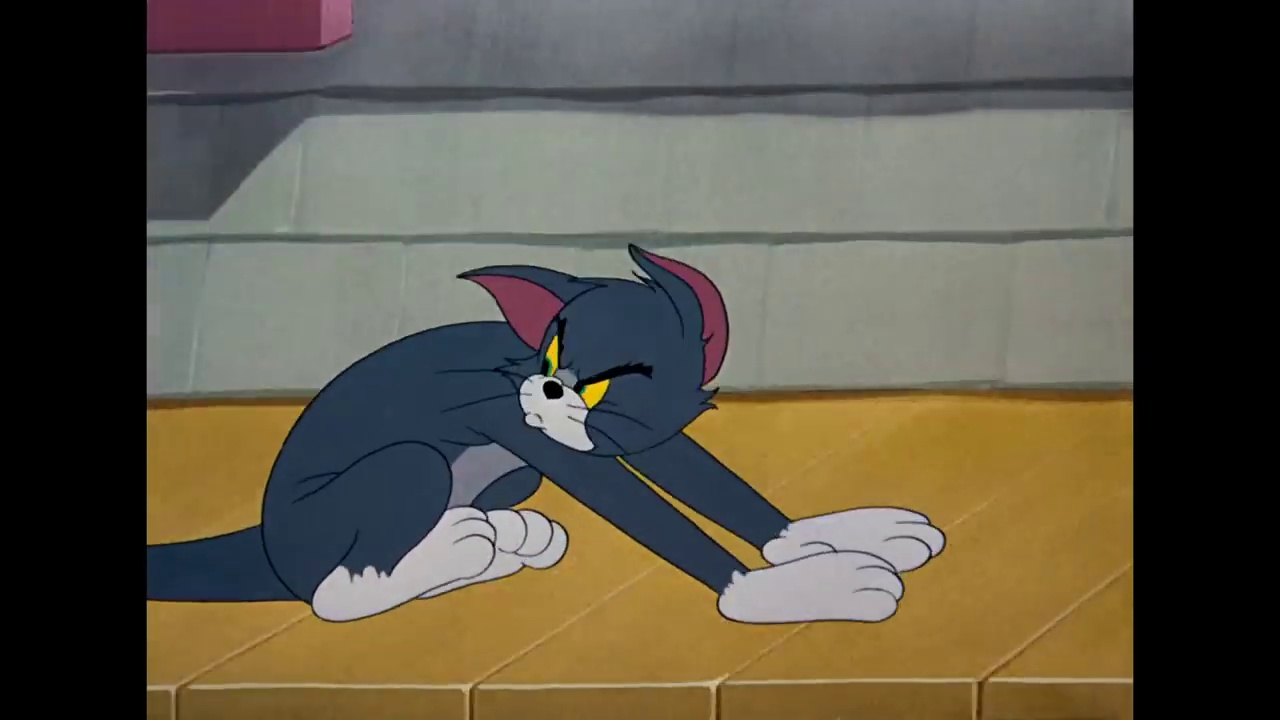tom: (454, 240, 729, 458)
